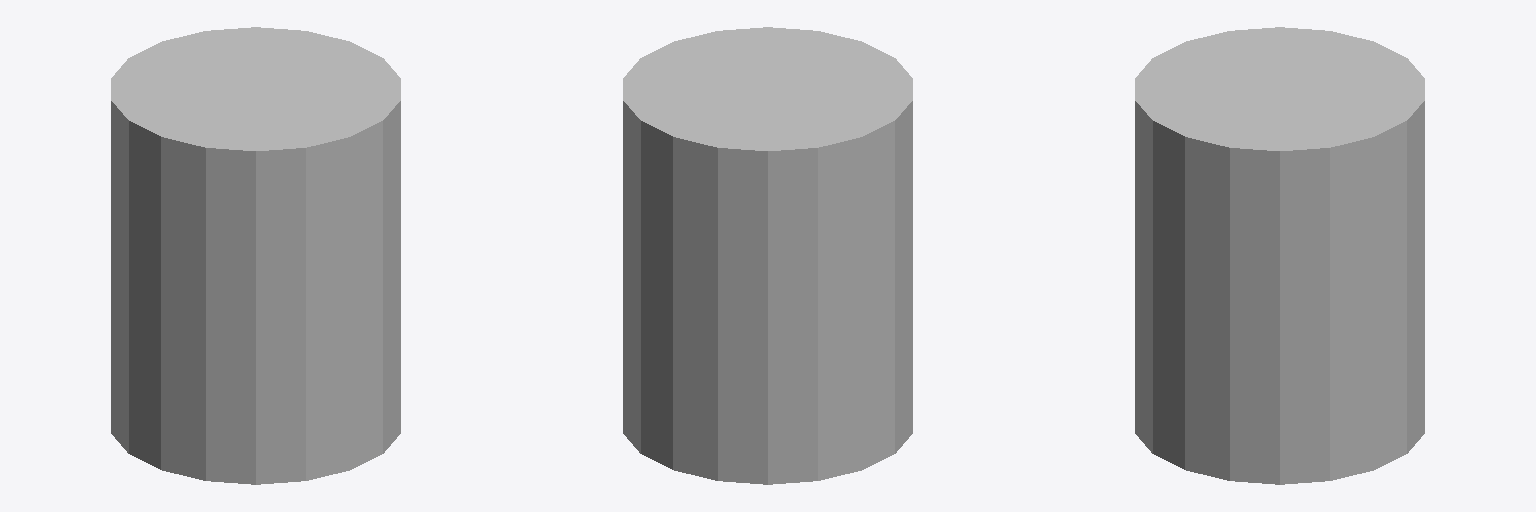
Rendered from sardcan.obj.
3 renders of one model, left to right at view 1: azimuth 30°, elevation 25°; view 2: azimuth 150°, elevation 25°; view 3: azimuth 270°, elevation 25°, orthographic.
Visible parts, largest first — view 1: pCylinder1; view 2: pCylinder1; view 3: pCylinder1.
Boxes of the visible parts, box(x1,y1,x2,y2) form: pCylinder1: box(111, 27, 400, 484); pCylinder1: box(623, 27, 912, 484); pCylinder1: box(1135, 27, 1424, 484).
Bounding box in the file's own units: 0.3 × 0.375 × 0.2954.